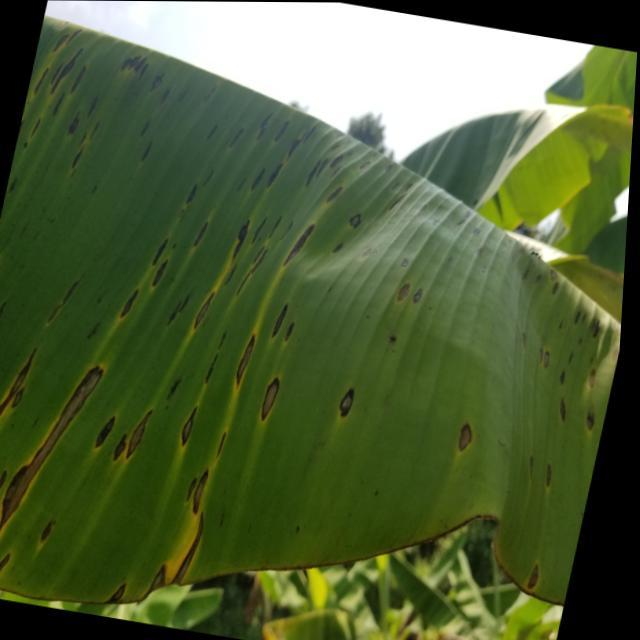Early_rust: (0, 8, 628, 628)
